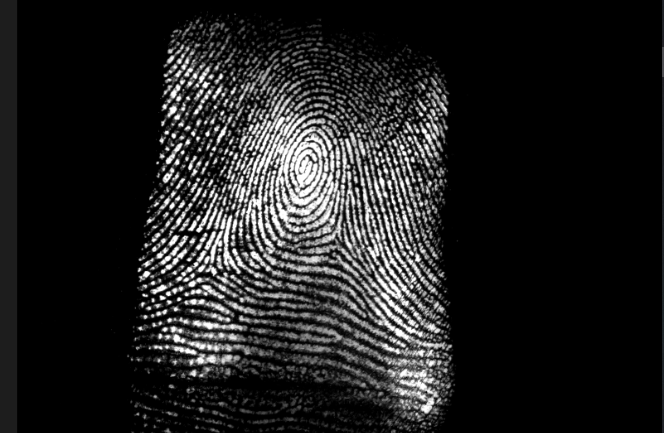deltas: (183, 237, 234, 286), (311, 210, 358, 259)
nucleo: (288, 141, 329, 191)
